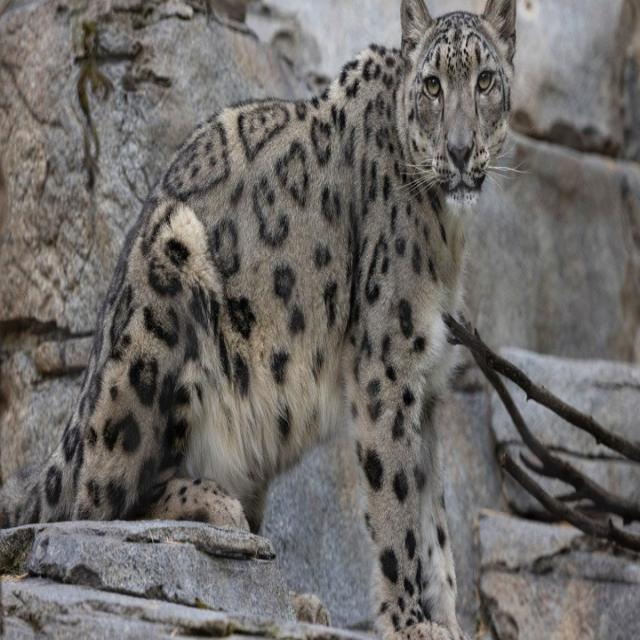Leopard: (18, 6, 518, 540)
